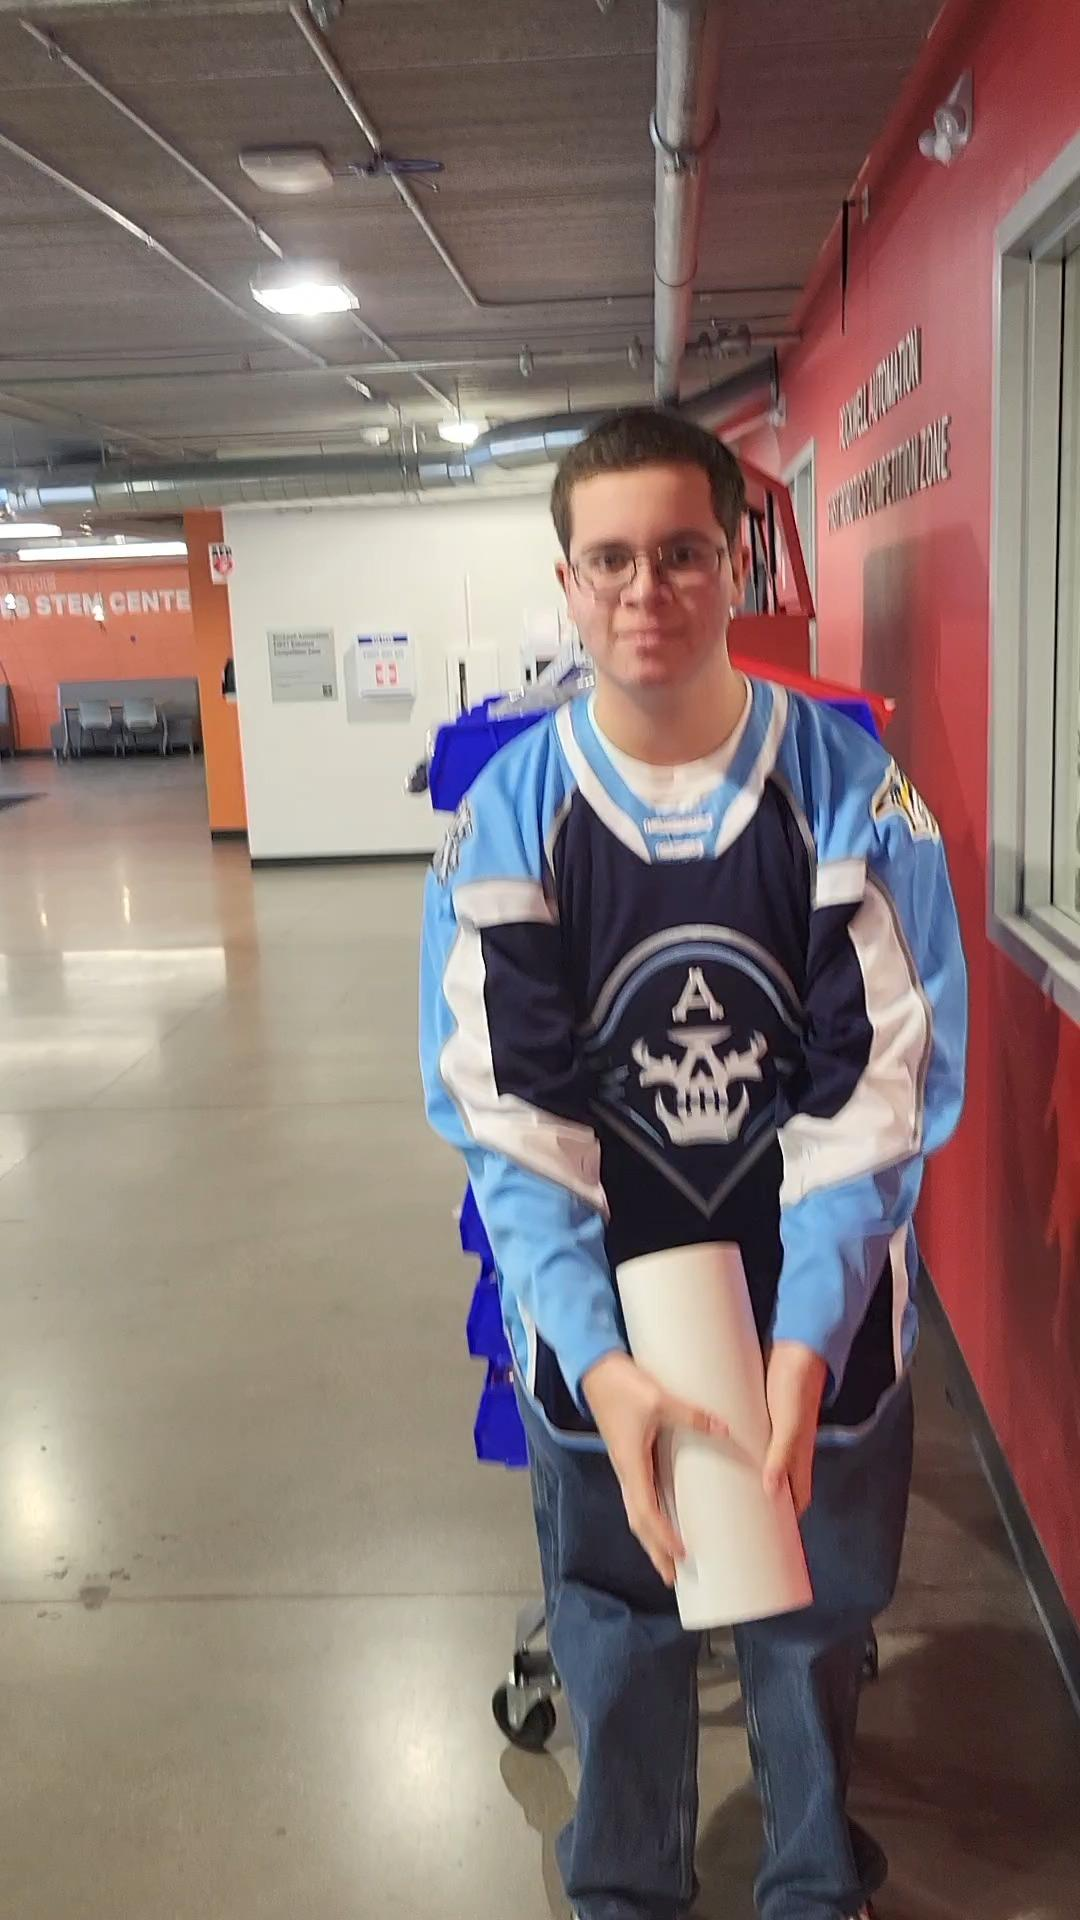coral: (613, 1238, 814, 1643)
